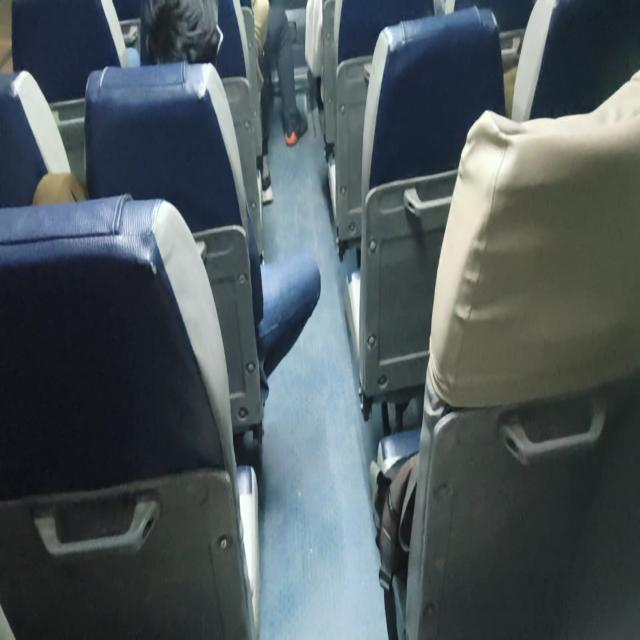person: (139, 0, 321, 397), (252, 0, 308, 146), (139, 0, 223, 66)
